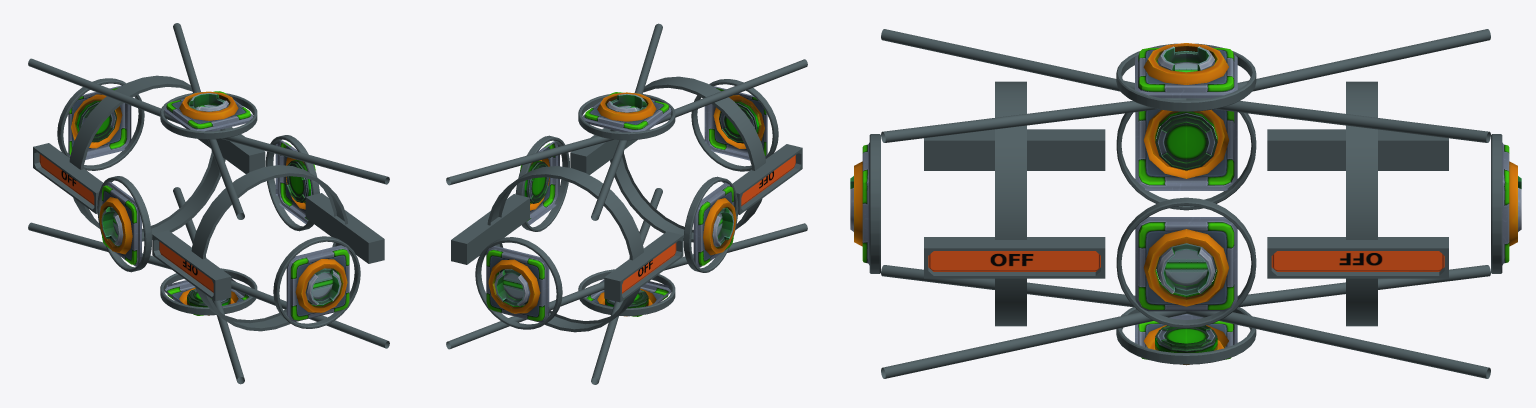
The model's file is fant_large_container.obj.
The picture shows the model from 3 angles, left to right: view 1: azimuth 30°, elevation 25°; view 2: azimuth 150°, elevation 25°; view 3: azimuth 270°, elevation 25°; orthographic projection. The views are drawn at different scales.
Visible parts, largest first — view 1: fant_large_container_Cube; view 2: fant_large_container_Cube; view 3: fant_large_container_Cube.
Part boxes in pixels (bbox=[...]): fant_large_container_Cube: bbox=[28, 23, 389, 384]; fant_large_container_Cube: bbox=[446, 23, 807, 384]; fant_large_container_Cube: bbox=[850, 29, 1521, 378].
Size of the model in its own units: 5.71 by 5.71 by 11.71.
